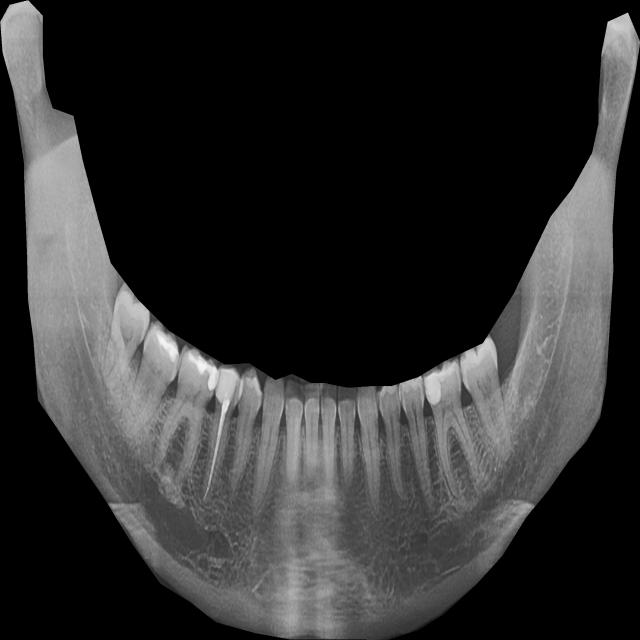mandibula: (0, 0, 640, 640)
